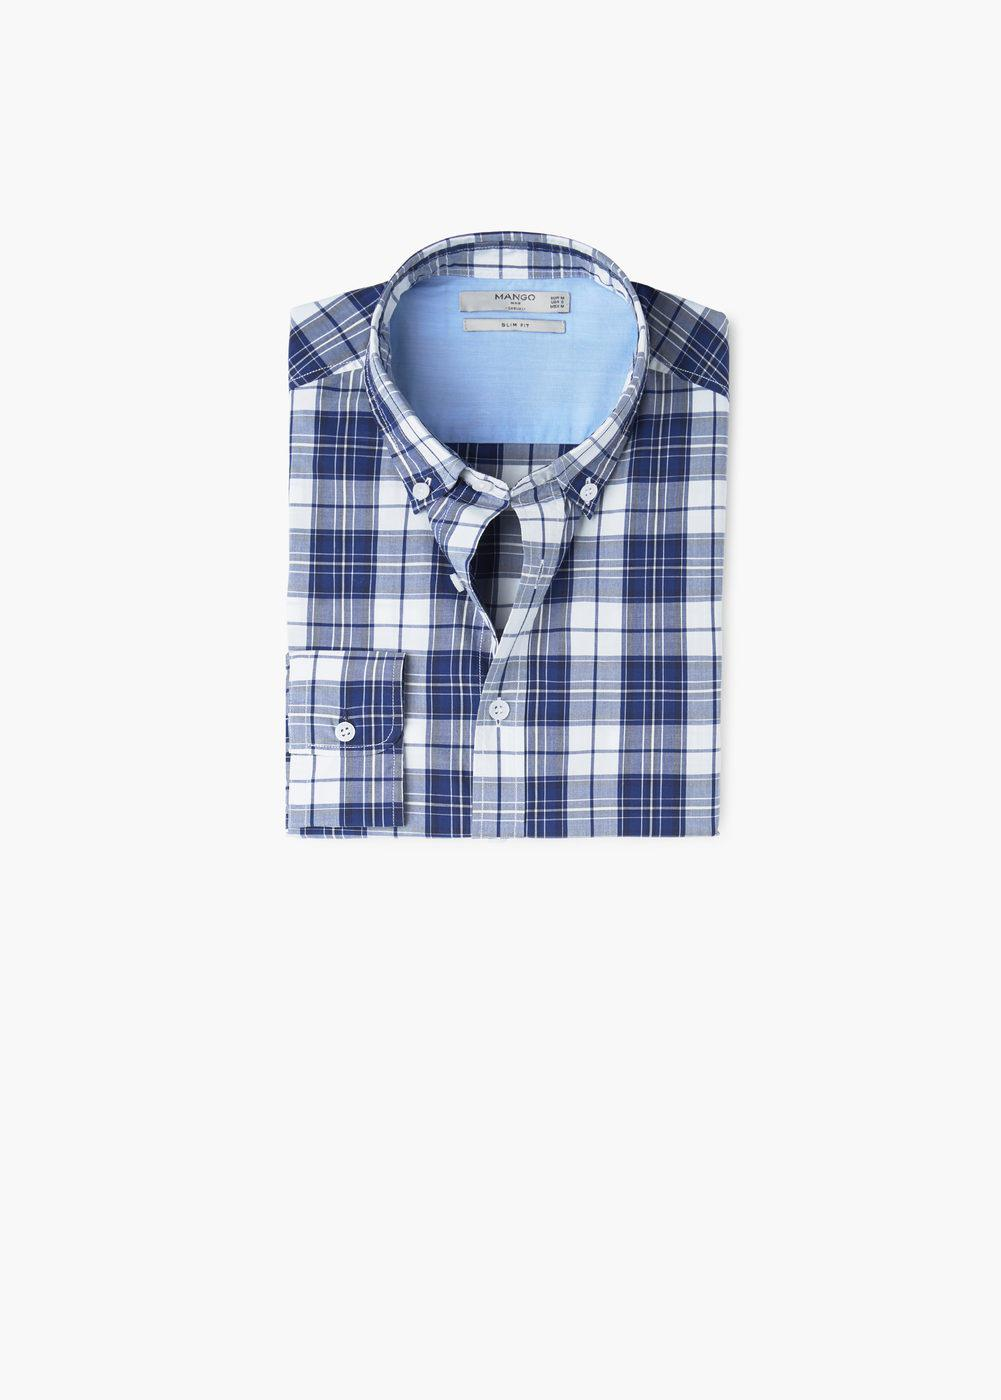teeshirt: (253, 231, 780, 850)
